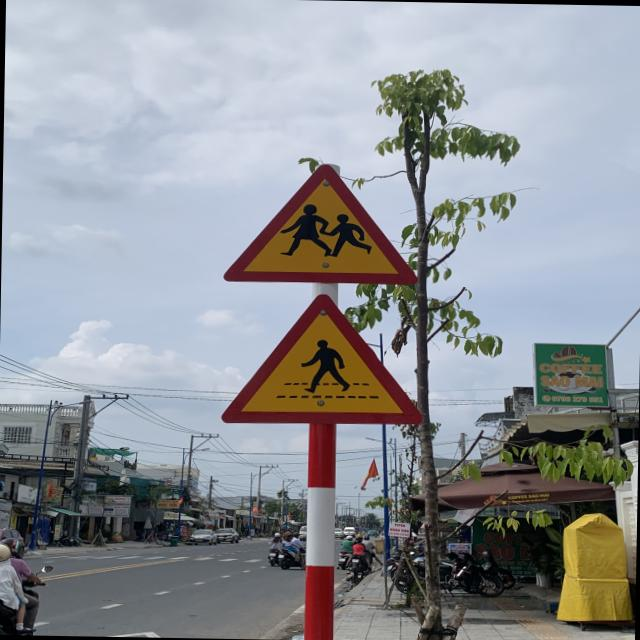Duong_Nguoi_Di_Bo_Sang_Ngang: (219, 292, 424, 426)
Vong_Xuyen: (222, 162, 421, 284)
